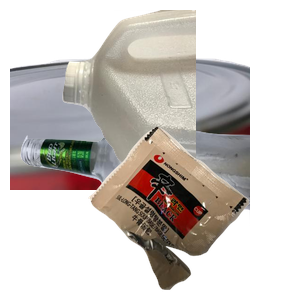glass: (18, 124, 258, 300)
metal: (10, 52, 250, 232)
plastic: (60, 10, 300, 190)
trash: (86, 124, 300, 300)
